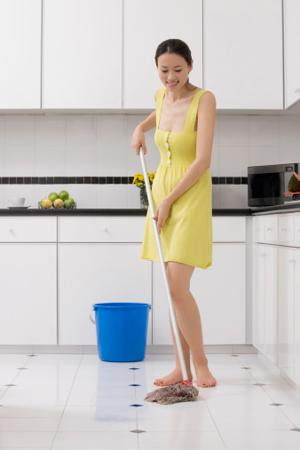person: (131, 36, 218, 393)
